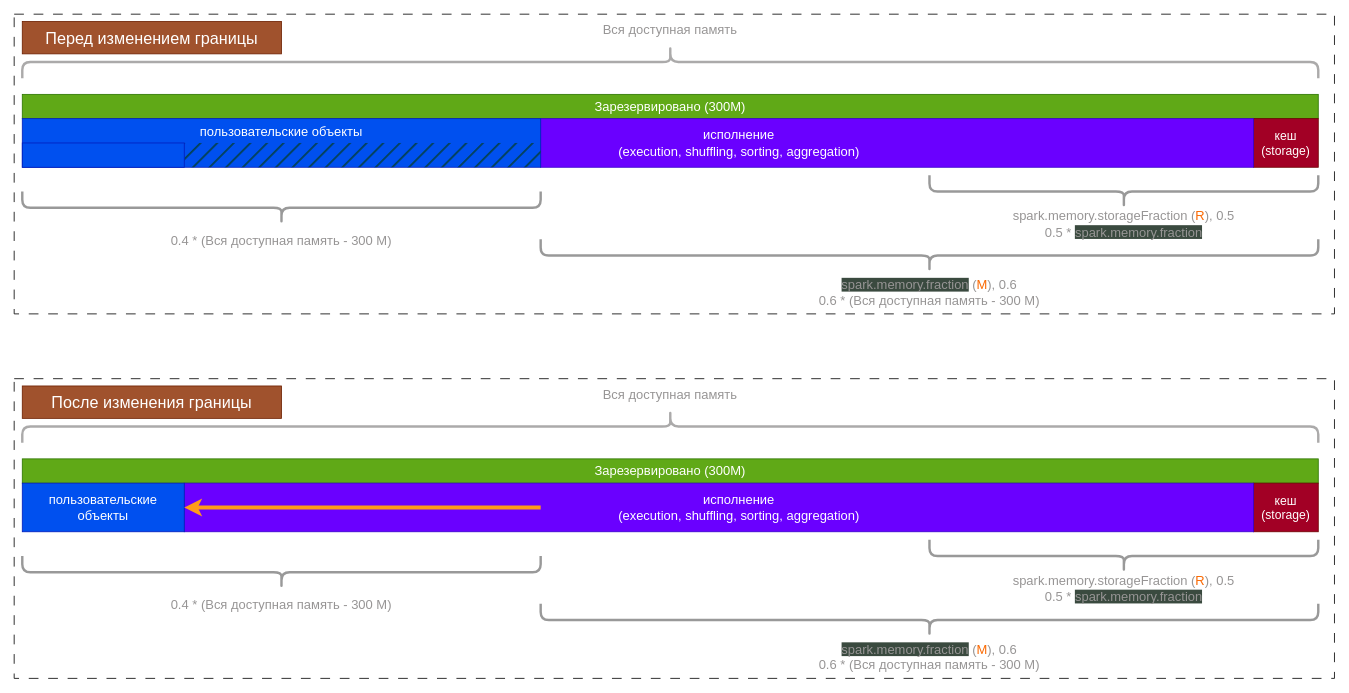
Some shapes in this 1349 by 693 pixel diagram are drawn without their labels. Each missing label, with the centre of its shape:
"занято" belongs at point 102,154.
"свободно" belongs at point 362,155.
